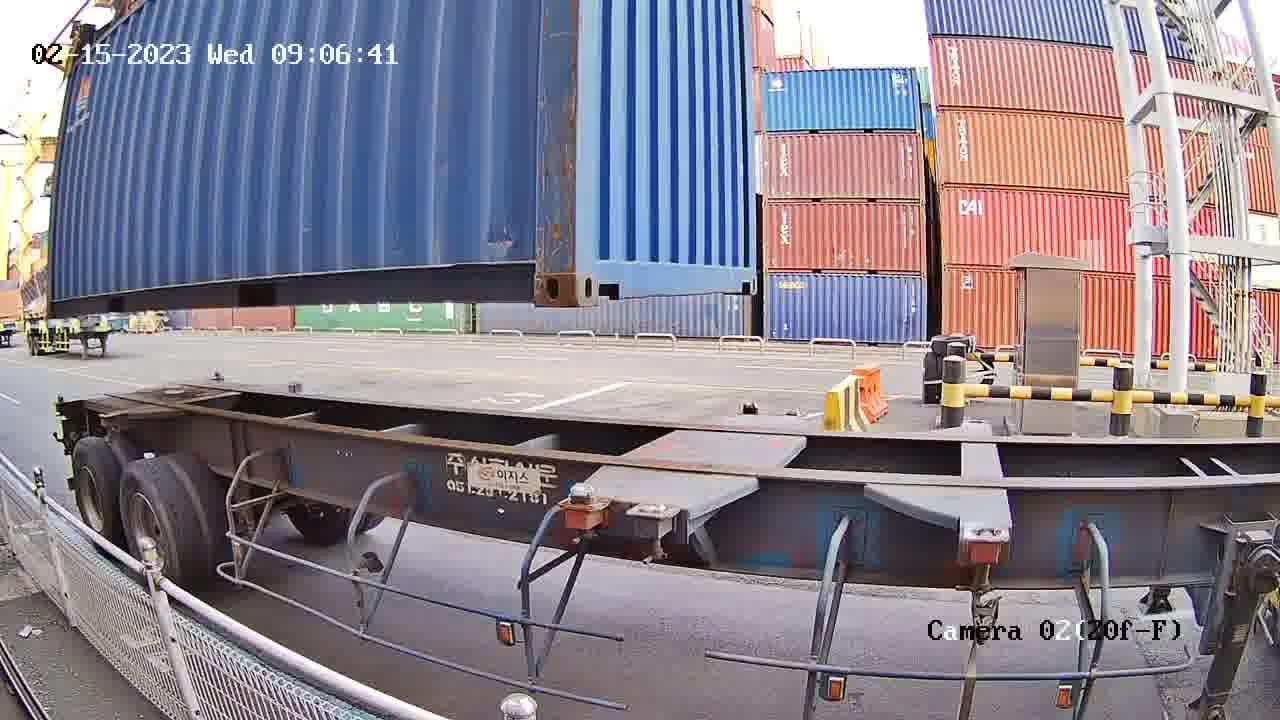Cone: (559, 481, 604, 543), (731, 397, 766, 417)
Hole_L: (576, 216, 650, 310)
Hole_R: (487, 214, 577, 310), (727, 237, 758, 293)
Tire: (118, 464, 181, 584), (72, 438, 113, 540)
